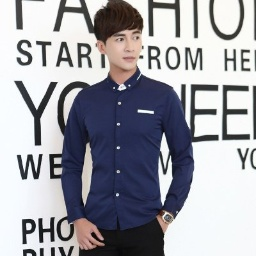face: (93, 1, 144, 74)
